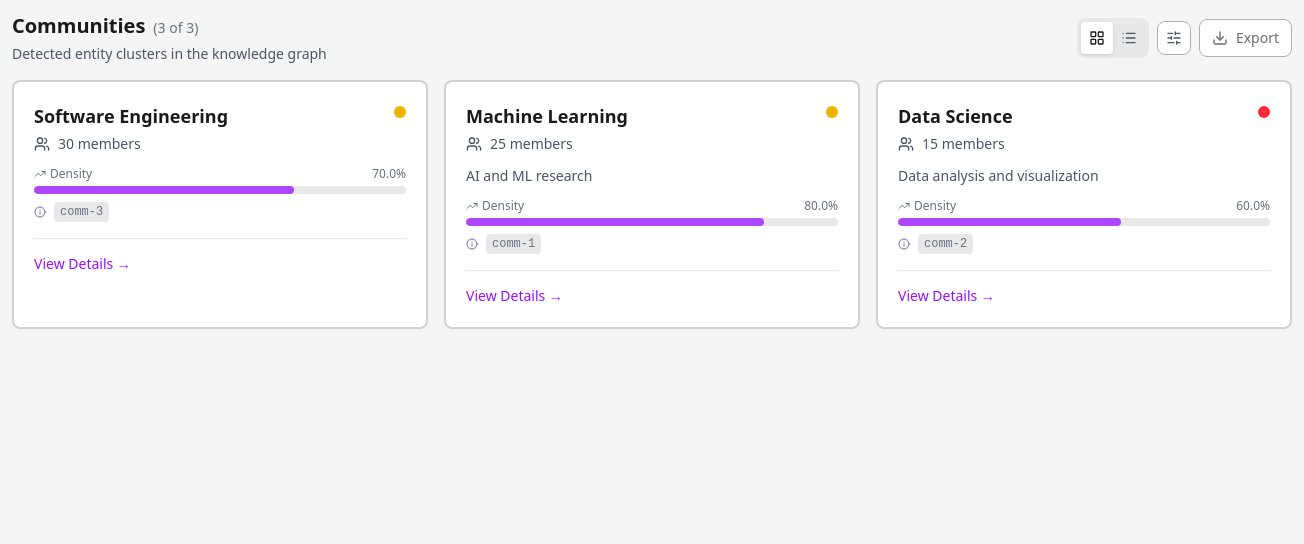
Test: CommunitiesList › Filtering and Sorting › should toggle filter panel when filter button clicked
Step 1. Click the button with test id "toggle-filters" → x=1174, y=38, box 1157,21 -> 1191,55
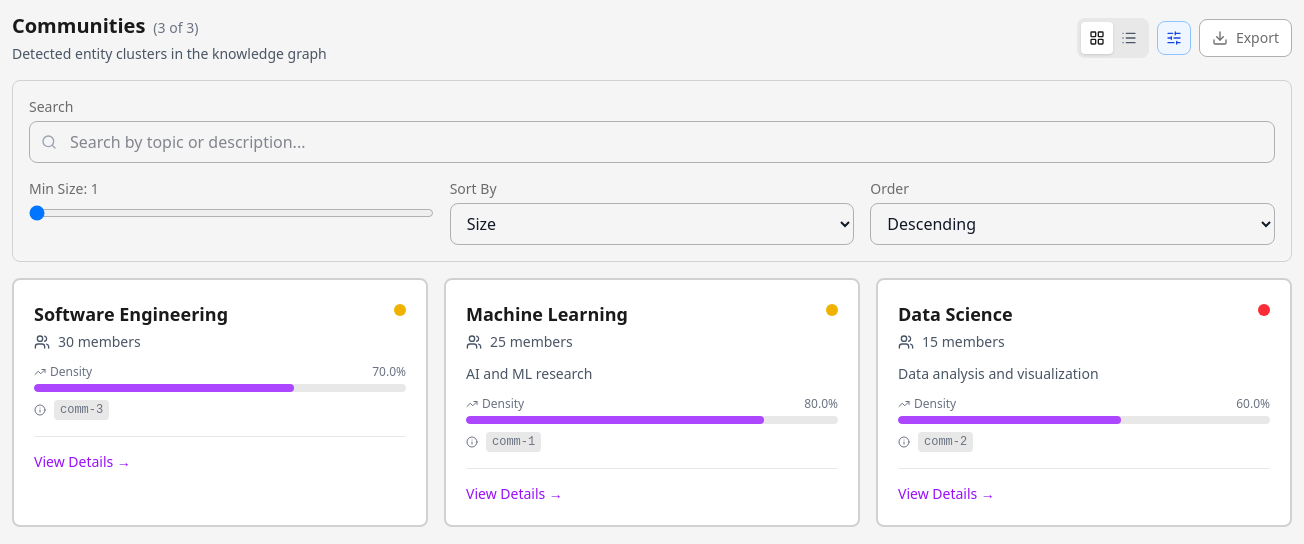
Expected: the field with test id "search-input" is shown, 29,121 -> 1275,163
Expected: the slider with test id "min-size-slider" is shown, 29,205 -> 434,221
Expected: the dropdown with test id "sort-field-select" is shown, 450,203 -> 854,245
